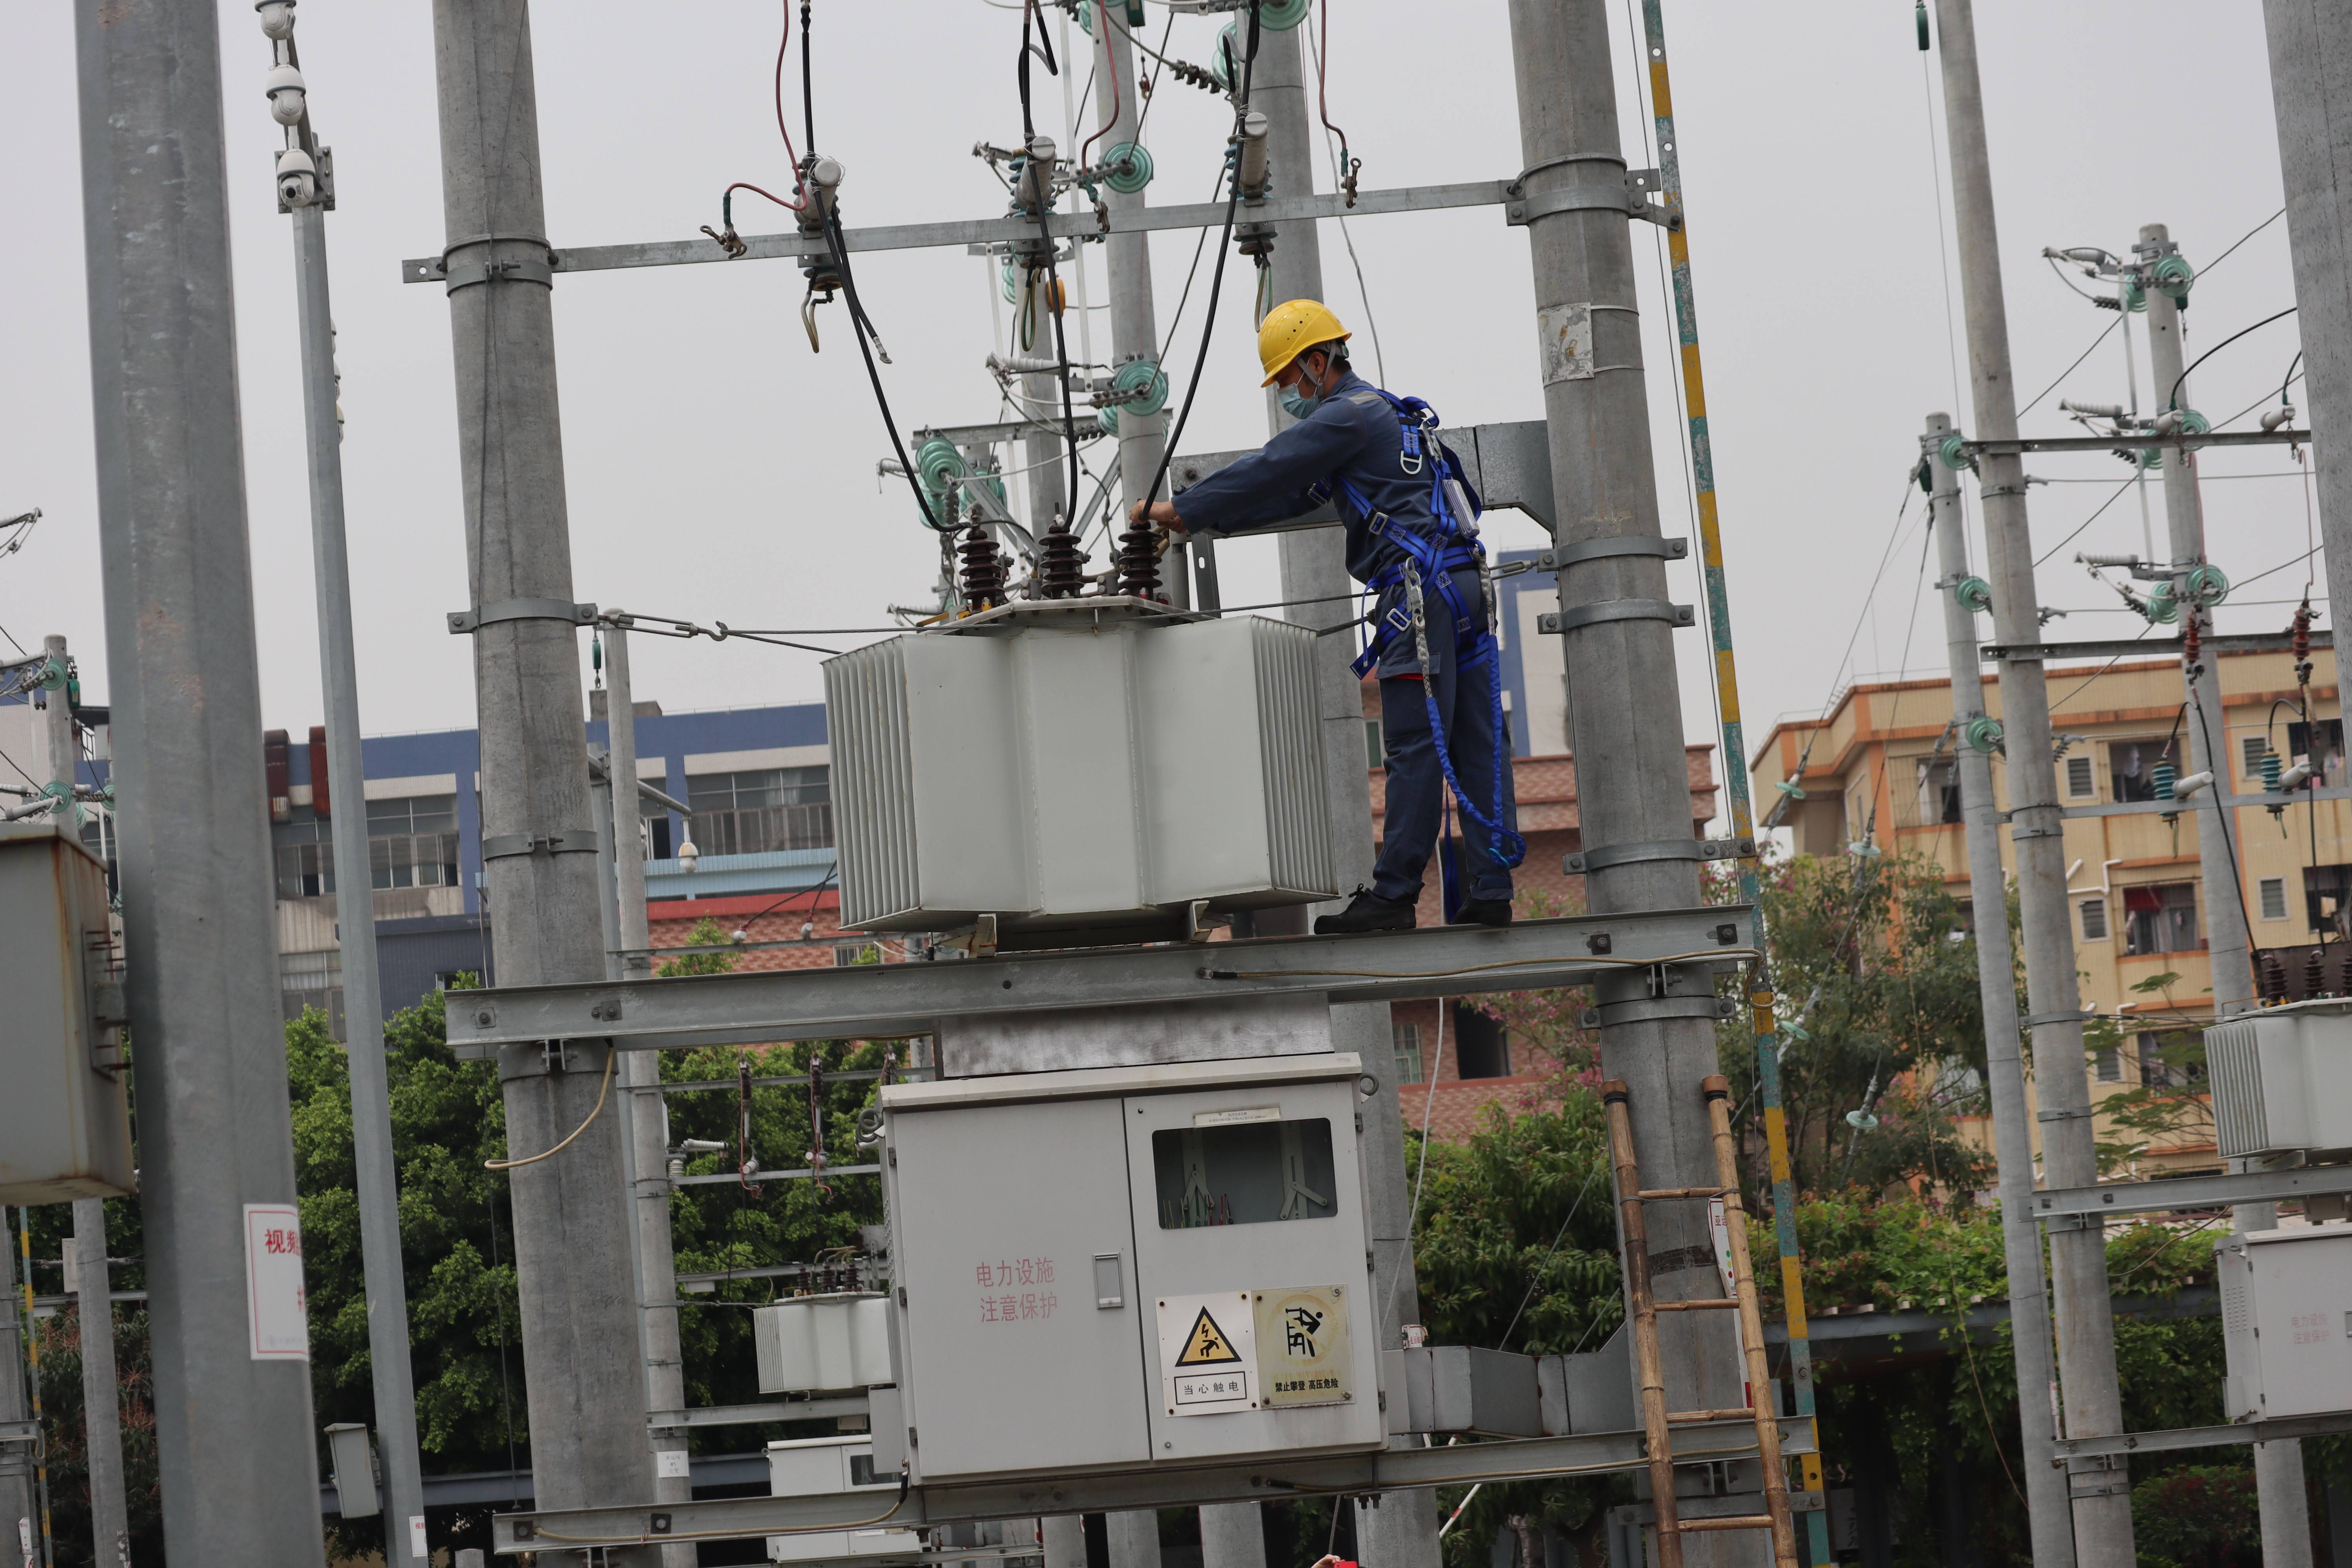downsuit: (1353, 565, 1533, 900)
upsuit: (1179, 387, 1488, 546)
